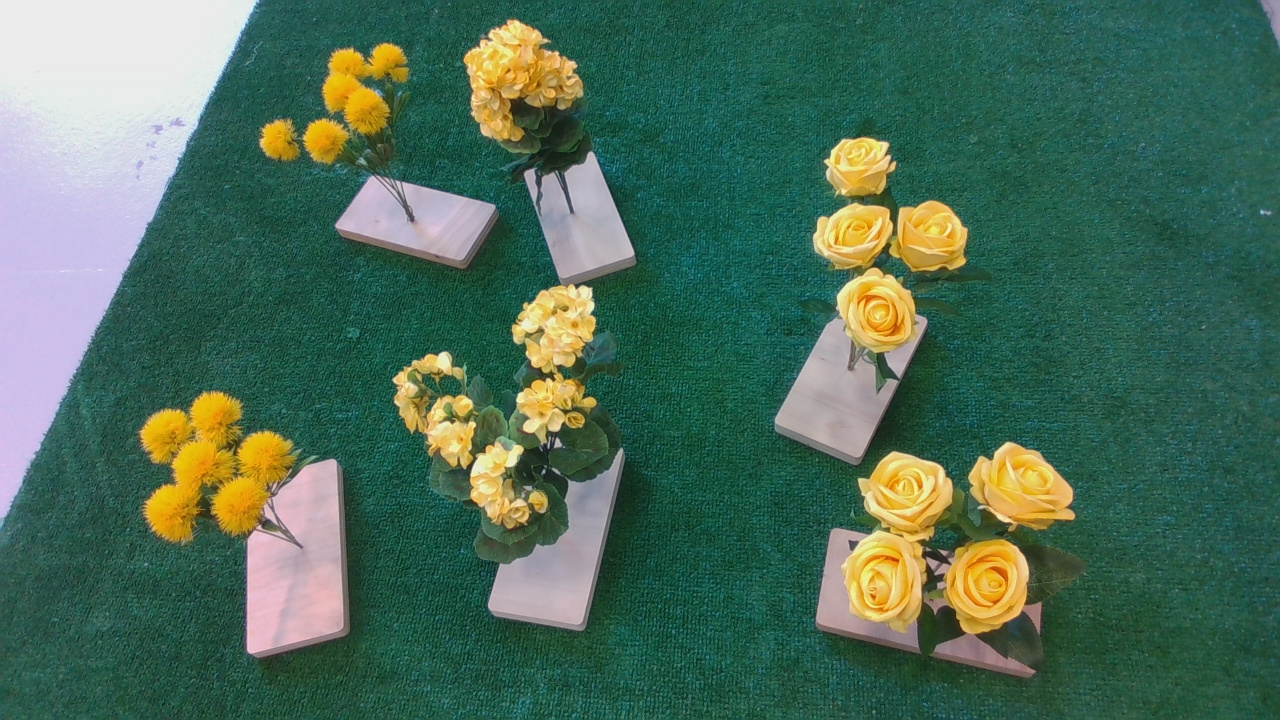dandelion: (121, 392, 326, 556), (256, 41, 429, 195)
geranium: (388, 287, 660, 561), (466, 18, 607, 197)
rose: (845, 447, 1095, 675), (786, 136, 1002, 375)
